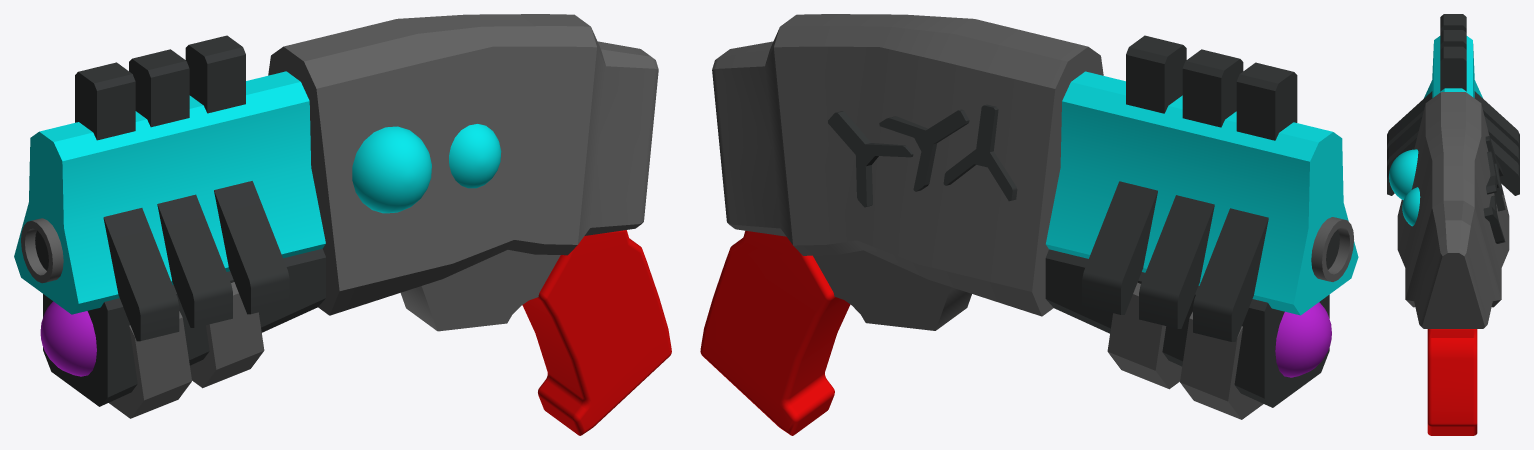
The model's file is weapon_pistol_1_model.fbx.
The picture shows the model from 3 angles, left to right: view 1: azimuth 30°, elevation 25°; view 2: azimuth 150°, elevation 25°; view 3: azimuth 270°, elevation 25°; orthographic projection. The views are drawn at different scales.
Parts seen in each view (by area): view 1: Pistol_Laser2; view 2: Pistol_Laser2; view 3: Pistol_Laser2.
Part boxes in pixels (left/top/right/bottom): Pistol_Laser2: left=14, top=14, right=671, bottom=435; Pistol_Laser2: left=700, top=14, right=1358, bottom=435; Pistol_Laser2: left=1387, top=14, right=1519, bottom=435.
Bounding box in the file's own units: 18.1 × 12.91 × 5.54.
